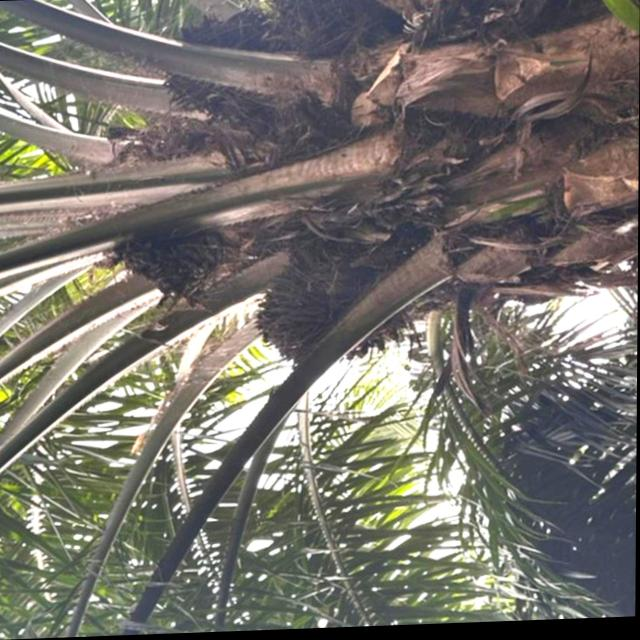almost: (249, 260, 409, 369)
